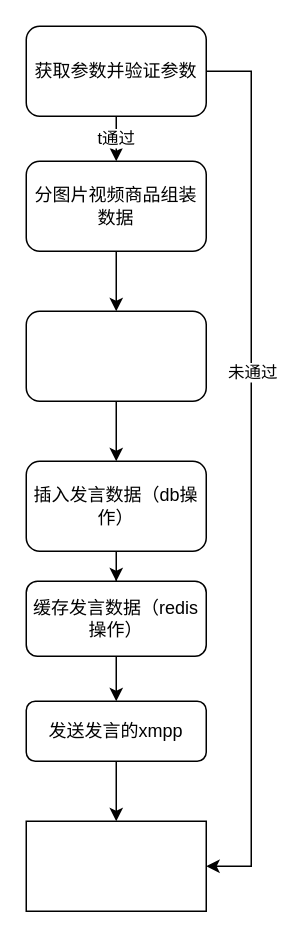
The diagram is 303 pixels wide and 938 high, and some of its shapes have lost their labels. The shapes that lost their labels are listed below. From the top down, each one's centre as x and y in pixels, then its label:
(115,355): 获取图片宽高
(115,865): 结束
